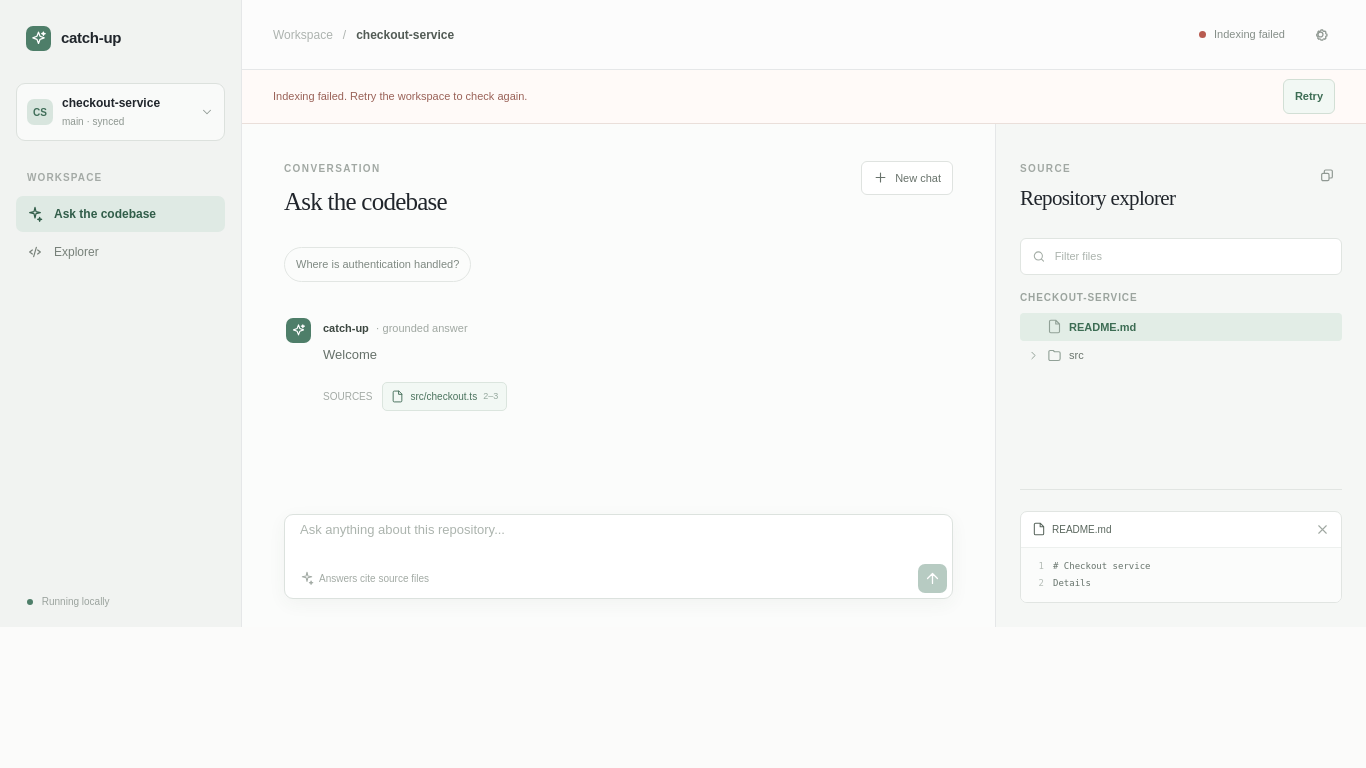
Test: Workspace › restarts failed indexing without reloading the workspace
This screenshot has width=1366, height=768.
Expected: the message shows "Indexing failed", [273,90,527,102]
Click the button "Retry" at (1309, 96), box [1283,79,1335,114]
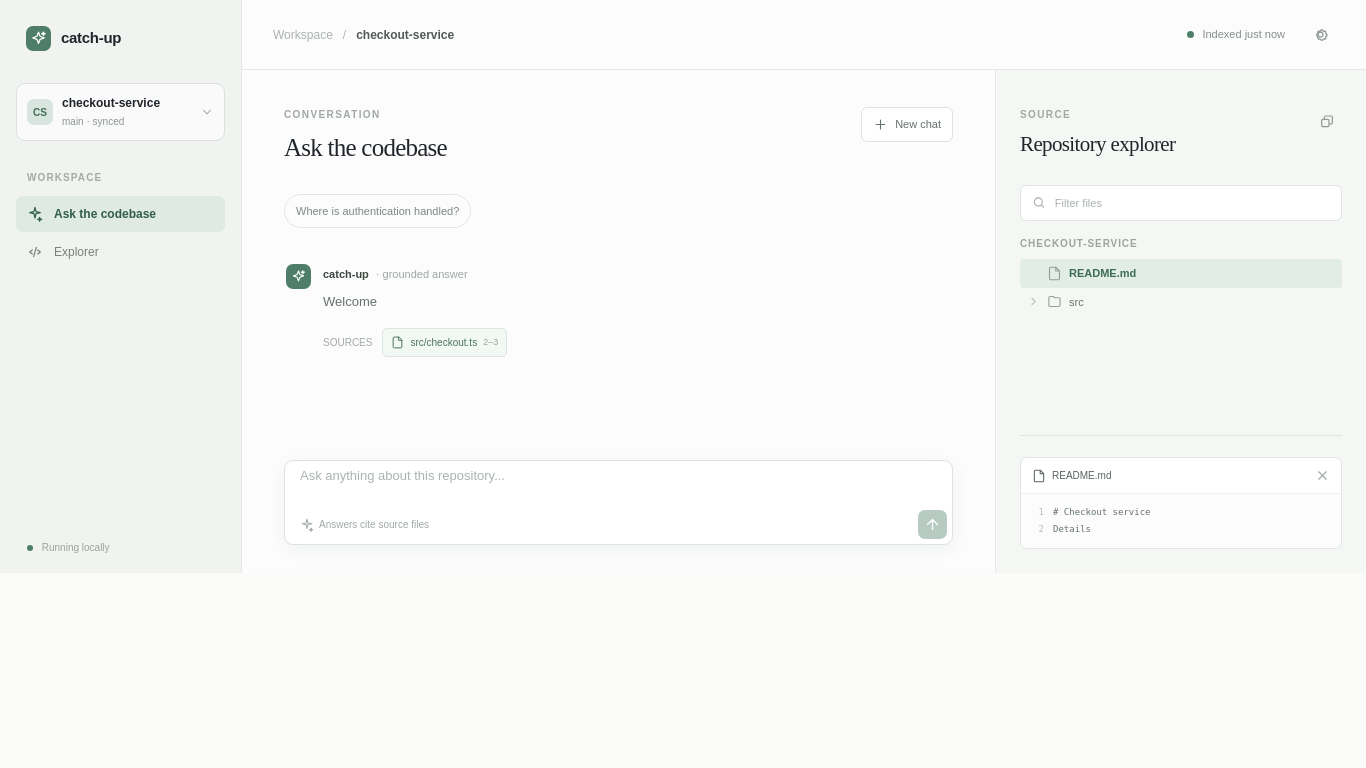
Now the text "Indexed just now" is shown, box [1187,26,1285,43]
